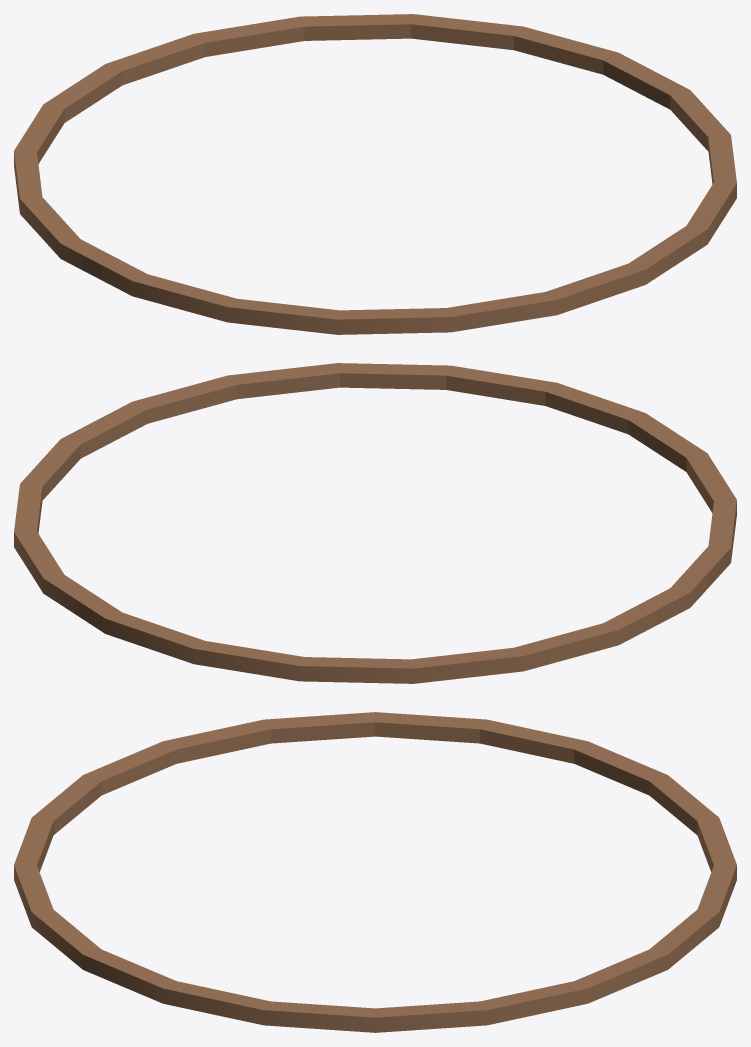
File: Candlestick_Circle.fbx
The picture shows the model from 3 angles, top to bottom: view 1: azimuth 30°, elevation 25°; view 2: azimuth 150°, elevation 25°; view 3: azimuth 270°, elevation 25°; orthographic projection.
Visible parts, largest first — view 1: Candlestick_Circle; view 2: Candlestick_Circle; view 3: Candlestick_Circle.
Boxes of the visible parts, x1,y1,x2,y2 form: Candlestick_Circle: [14, 14, 736, 334]; Candlestick_Circle: [14, 363, 736, 683]; Candlestick_Circle: [14, 712, 736, 1032].
Bounding box in the file's own units: 142 × 3.31 × 142.
